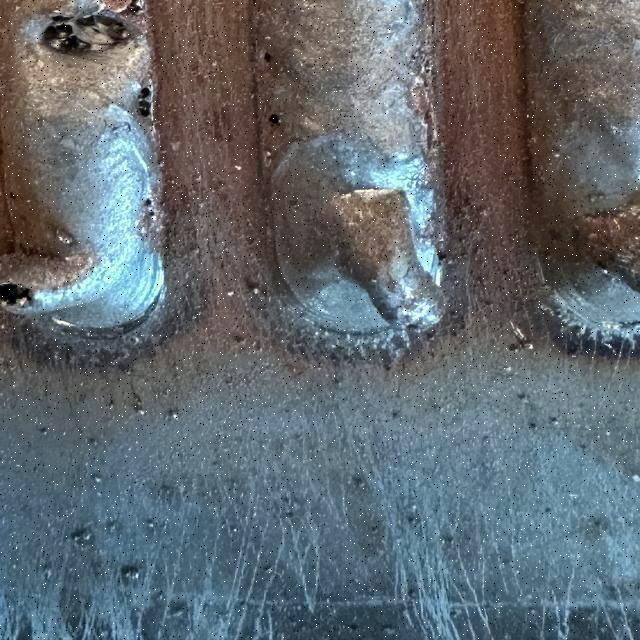Excess Reinforcement: (332, 189, 440, 326), (0, 249, 163, 328)
Porosity: (43, 15, 128, 52), (0, 282, 32, 306), (137, 88, 152, 116), (140, 198, 158, 221), (137, 101, 152, 116), (127, 0, 145, 12), (138, 88, 152, 98)
Spatters: (70, 528, 93, 547), (120, 565, 140, 584), (55, 228, 75, 245), (508, 341, 533, 352), (352, 475, 367, 488), (165, 409, 180, 421), (133, 404, 147, 416), (105, 521, 118, 532), (268, 114, 280, 124), (145, 519, 155, 530), (518, 394, 530, 403), (550, 416, 560, 426), (263, 52, 272, 62), (252, 286, 262, 295), (230, 527, 242, 534), (92, 474, 102, 482), (530, 422, 538, 430), (350, 624, 358, 631), (227, 291, 235, 296), (40, 428, 47, 432), (10, 192, 15, 197)
